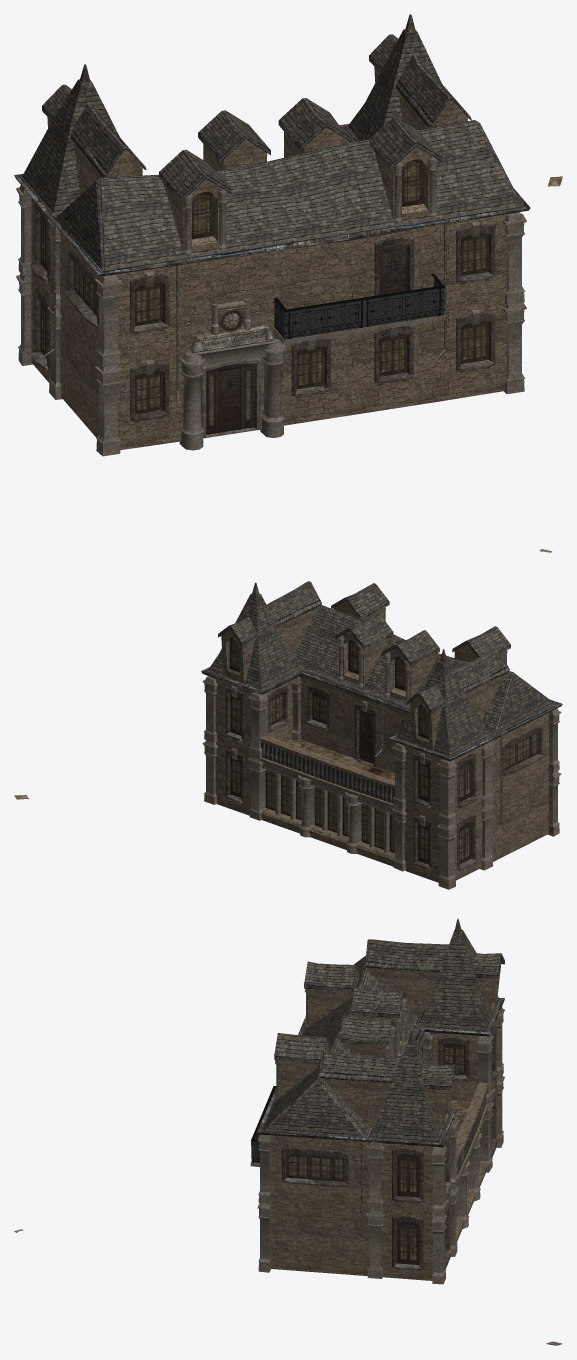
The model's file is casa2.fbx.
The picture shows the model from 3 angles, top to bottom: view 1: azimuth 30°, elevation 25°; view 2: azimuth 150°, elevation 25°; view 3: azimuth 270°, elevation 25°; orthographic projection. The views are drawn at different scales.
Parts seen in each view (by area): view 1: Huiske003.002; view 2: Huiske003.002; view 3: Huiske003.002.
Part boxes in pixels (x1,y1,x2,y2): Huiske003.002: (14, 14, 530, 456); Huiske003.002: (201, 581, 562, 889); Huiske003.002: (250, 918, 504, 1284).
Bounding box in the file's own units: 1421 × 704 × 1418.
